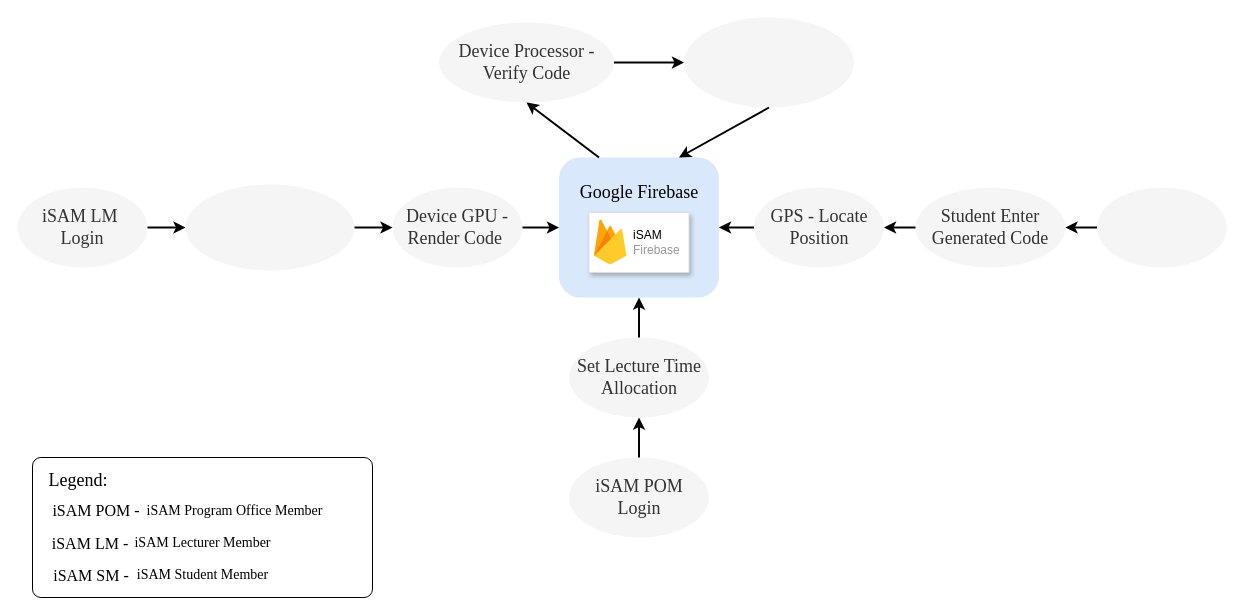
The diagram is 1244 pixels wide and 615 high, and some of its shapes have lost their labels. The shapes that lost their labels are listed below. From the top down, each one's centre as x and y in pixels, then its label:
pixel 769 62: Approve Attendance - Add New Record
pixel 269 227: App Backend - Automatic Code Generation
pixel 1161 227: iSAM SM Login
